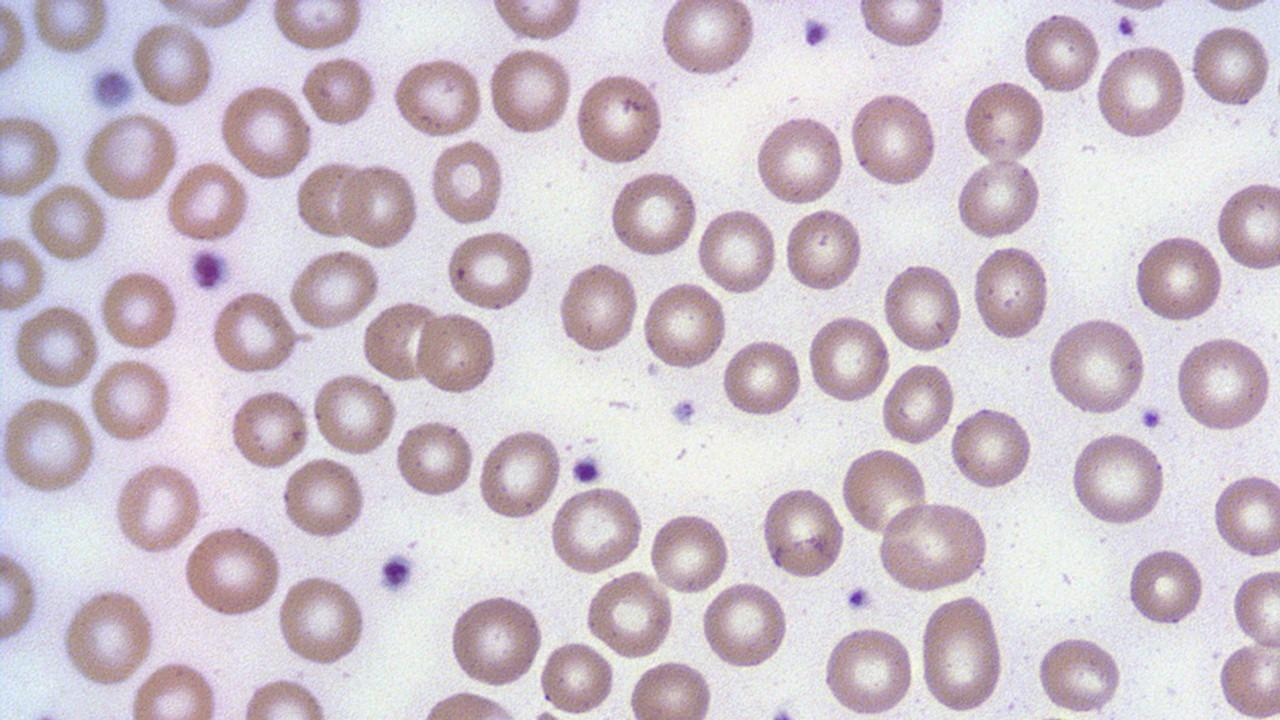Platelets: (188, 246, 230, 294), (376, 550, 418, 596), (568, 452, 606, 487), (800, 14, 832, 51), (668, 396, 700, 428), (1138, 404, 1166, 430)
RBC: (917, 590, 1008, 714), (876, 496, 991, 594), (1044, 313, 1148, 419), (1172, 332, 1276, 435), (181, 523, 284, 621), (0, 394, 98, 496), (446, 589, 544, 691), (60, 586, 156, 690), (1069, 429, 1169, 527), (1093, 40, 1187, 142), (820, 621, 918, 717), (274, 570, 368, 670), (752, 108, 846, 208), (847, 89, 940, 190), (81, 110, 181, 203), (219, 82, 312, 182), (573, 69, 666, 169), (546, 484, 646, 576), (838, 444, 930, 541), (758, 481, 846, 582), (1132, 231, 1224, 326), (113, 460, 202, 558), (476, 423, 562, 524), (606, 168, 700, 260), (486, 43, 574, 141), (970, 241, 1052, 345), (556, 258, 640, 358), (698, 578, 789, 670), (640, 278, 726, 374), (390, 54, 486, 139), (442, 228, 538, 313), (881, 259, 963, 358), (584, 570, 674, 660), (805, 312, 889, 408), (209, 288, 298, 378), (11, 302, 99, 393), (286, 246, 381, 330), (310, 369, 398, 459), (948, 402, 1035, 493), (1188, 20, 1274, 112), (658, 1, 758, 80), (279, 454, 368, 542), (696, 204, 778, 299), (960, 77, 1046, 166), (781, 204, 864, 296), (338, 159, 420, 252), (90, 356, 174, 446), (1035, 632, 1125, 716), (415, 308, 499, 398), (718, 334, 804, 421), (954, 156, 1042, 241), (393, 414, 477, 503), (131, 19, 214, 109), (228, 384, 311, 474), (1022, 9, 1103, 98), (429, 137, 507, 229), (647, 510, 730, 596), (164, 160, 248, 244), (880, 358, 958, 448), (98, 267, 180, 352), (28, 180, 109, 265), (1124, 544, 1204, 629), (360, 299, 440, 383), (1213, 175, 1279, 274), (294, 158, 369, 242), (538, 636, 616, 716), (300, 52, 379, 130), (126, 654, 222, 718), (1211, 470, 1279, 560), (625, 655, 716, 720), (0, 110, 62, 199), (266, 2, 370, 55), (1217, 636, 1279, 719), (30, 0, 111, 59), (855, 1, 949, 51), (0, 538, 41, 648), (238, 673, 332, 719), (488, 2, 588, 44), (1230, 565, 1280, 649), (0, 230, 48, 314), (0, 0, 27, 90)
